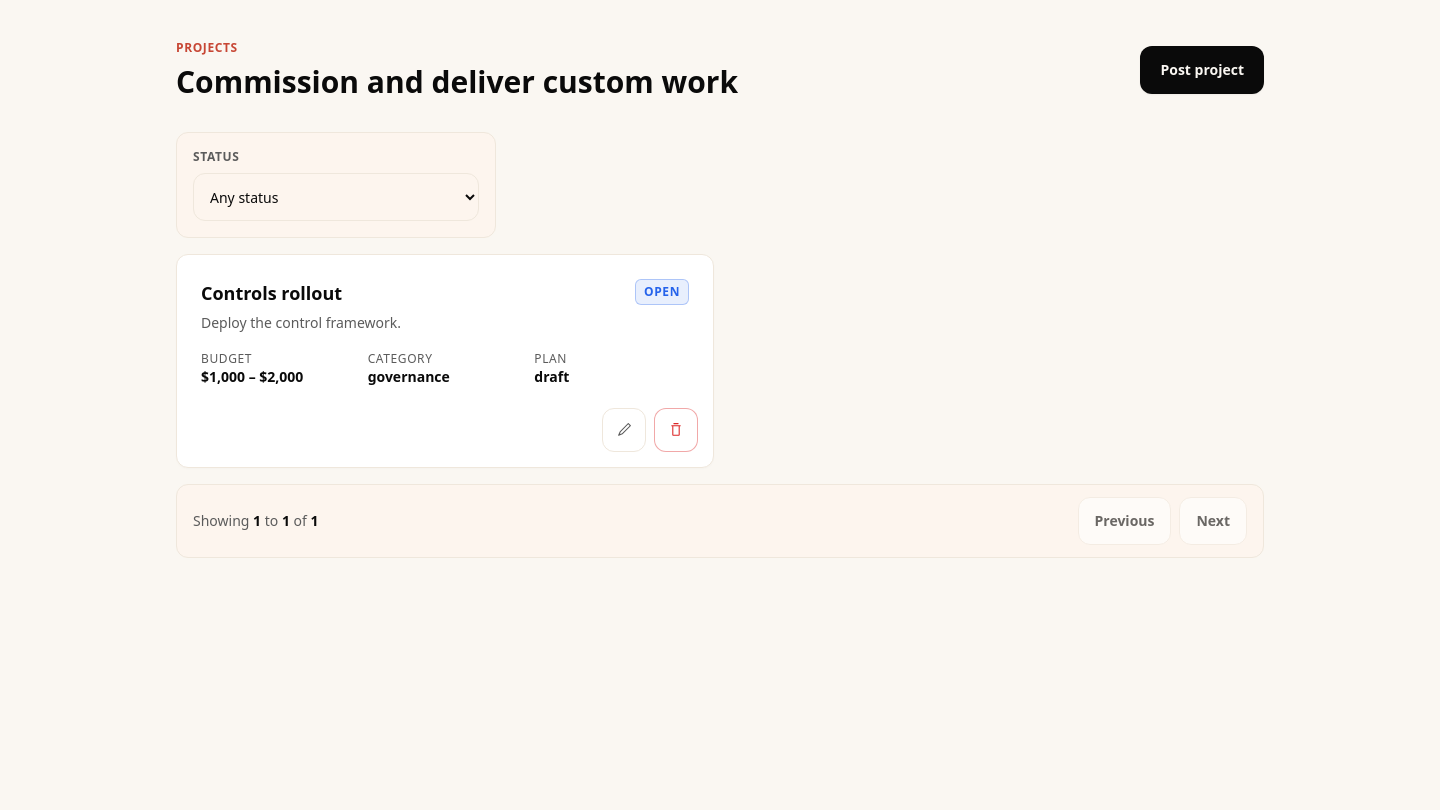
Test: ProjectListShell › confirms org project deletion from the card and removes it
The width and height of the screenshot is (1440, 810).
Click the button named "delete controls rollout" at (676, 430), box [654,408,698,452]
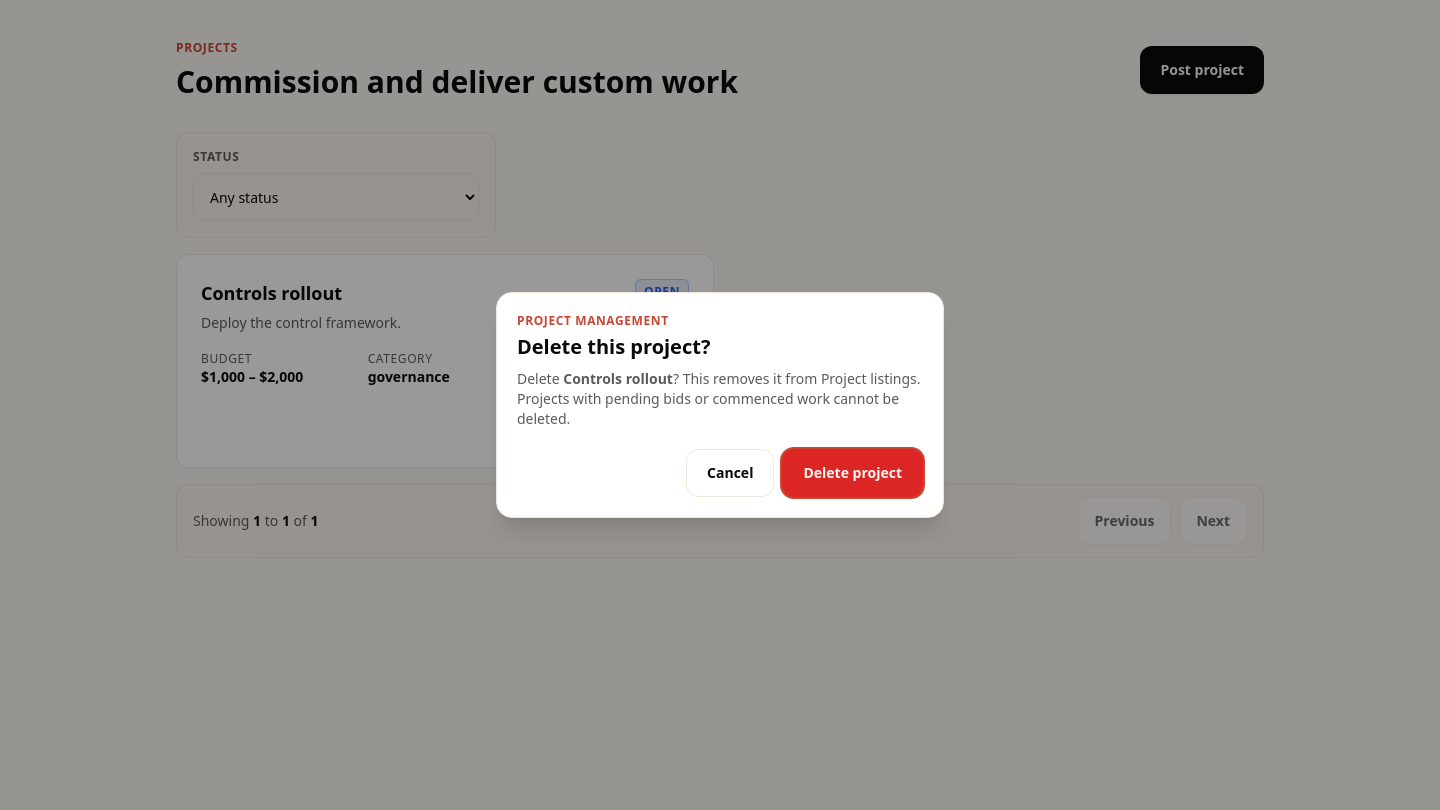
Click the button "Delete project" at (853, 473), box [782,449,923,497]
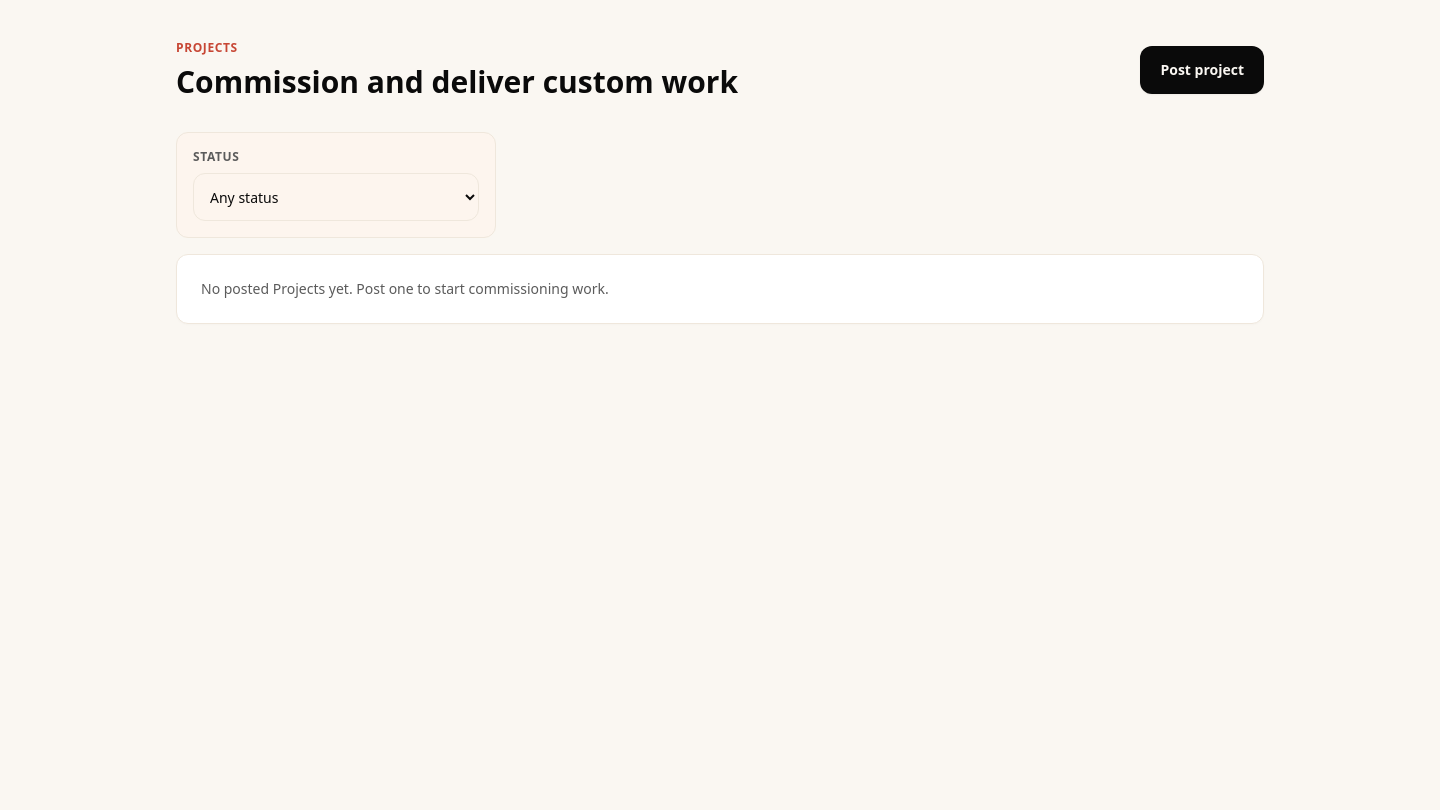
expect the link "Controls rollout" is gone: met
